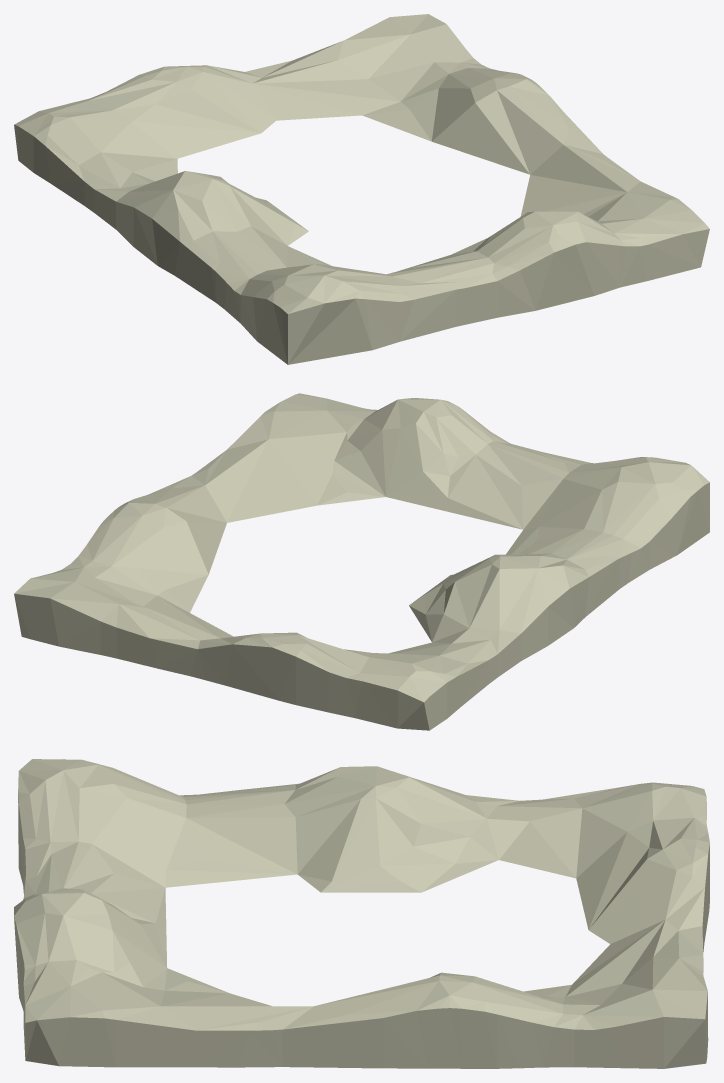
The model's file is sand.fbx.
3 renders of one model, top to bottom at view 1: azimuth 30°, elevation 25°; view 2: azimuth 150°, elevation 25°; view 3: azimuth 270°, elevation 25°, orthographic. The views are drawn at different scales.
Visible parts, largest first — view 1: polySurface3; view 2: polySurface3; view 3: polySurface3.
Boxes of the visible parts, <box> form: polySurface3: <box>14,14,709,364</box>; polySurface3: <box>14,393,709,730</box>; polySurface3: <box>14,759,709,1068</box>.
Size of the model in its own units: 2.01 by 0.3271 by 2.4.
